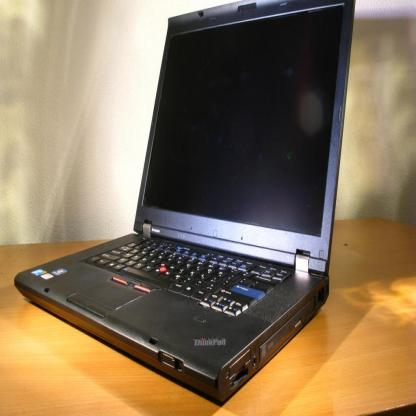board: (13, 0, 354, 404)
